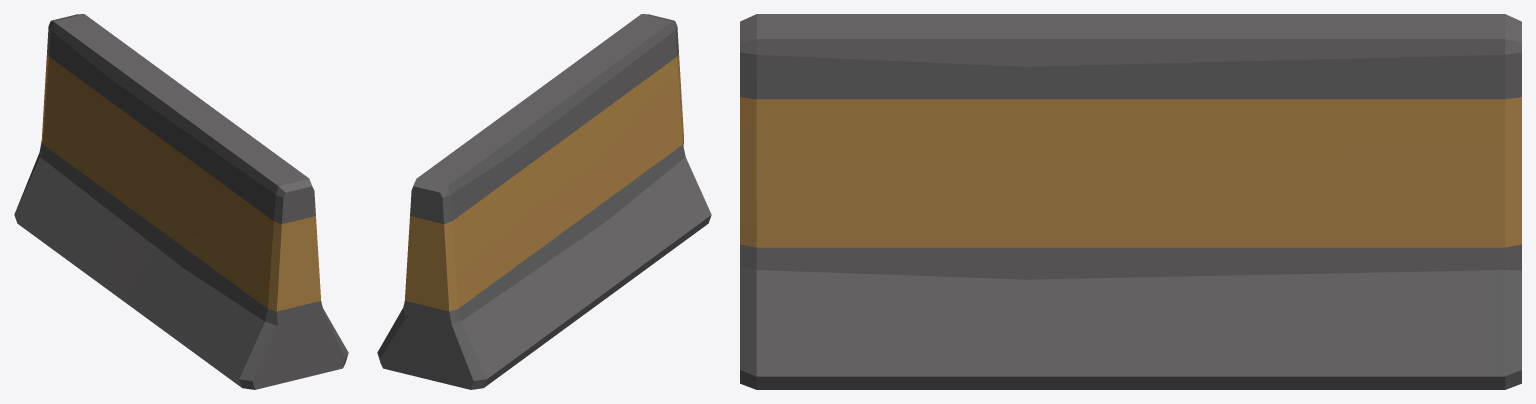
Rendered from SM_Prop_Barrier_Concrete_01.obj.
The picture shows the model from 3 angles, left to right: view 1: azimuth 30°, elevation 25°; view 2: azimuth 150°, elevation 25°; view 3: azimuth 270°, elevation 25°; orthographic projection. The views are drawn at different scales.
Parts seen in each view (by area): view 1: SM_Prop_Barrier_Concrete_01_0; view 2: SM_Prop_Barrier_Concrete_01_0; view 3: SM_Prop_Barrier_Concrete_01_0.
Boxes of the visible parts, <box> form: SM_Prop_Barrier_Concrete_01_0: <box>14,14,348,389</box>; SM_Prop_Barrier_Concrete_01_0: <box>377,14,711,389</box>; SM_Prop_Barrier_Concrete_01_0: <box>740,14,1521,389</box>.
Bounding box in the file's own units: 0.5354 × 0.9029 × 1.99.
Materials: 1 (1 with a texture image).
